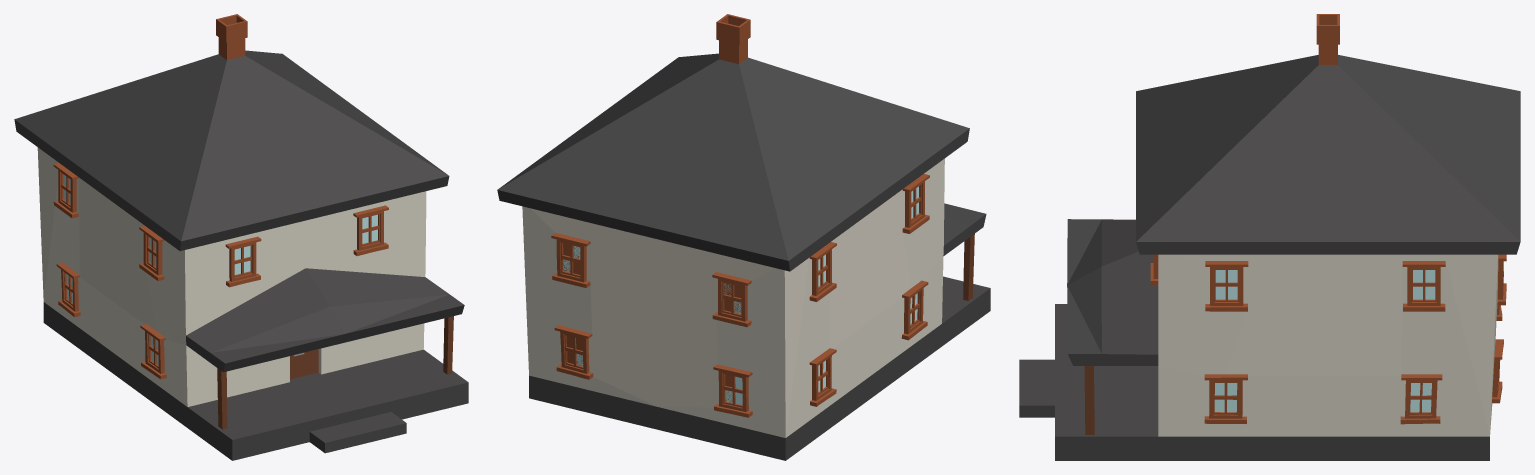
The model's file is casa.glb.
3 views of the same model, side by side, from view 1: azimuth 30°, elevation 25°; view 2: azimuth 150°, elevation 25°; view 3: azimuth 270°, elevation 25° (orthographic). The views are drawn at different scales.
Visible parts, largest first — view 1: House1_Cube.011; view 2: House1_Cube.011; view 3: House1_Cube.011.
Part boxes in pixels (bbox=[...]): House1_Cube.011: bbox=[14, 14, 468, 460]; House1_Cube.011: bbox=[497, 14, 990, 460]; House1_Cube.011: bbox=[1019, 14, 1520, 460].
Size of the model in its own units: 1.22 by 1.42 by 1.72.
1 material, 1 textured.
